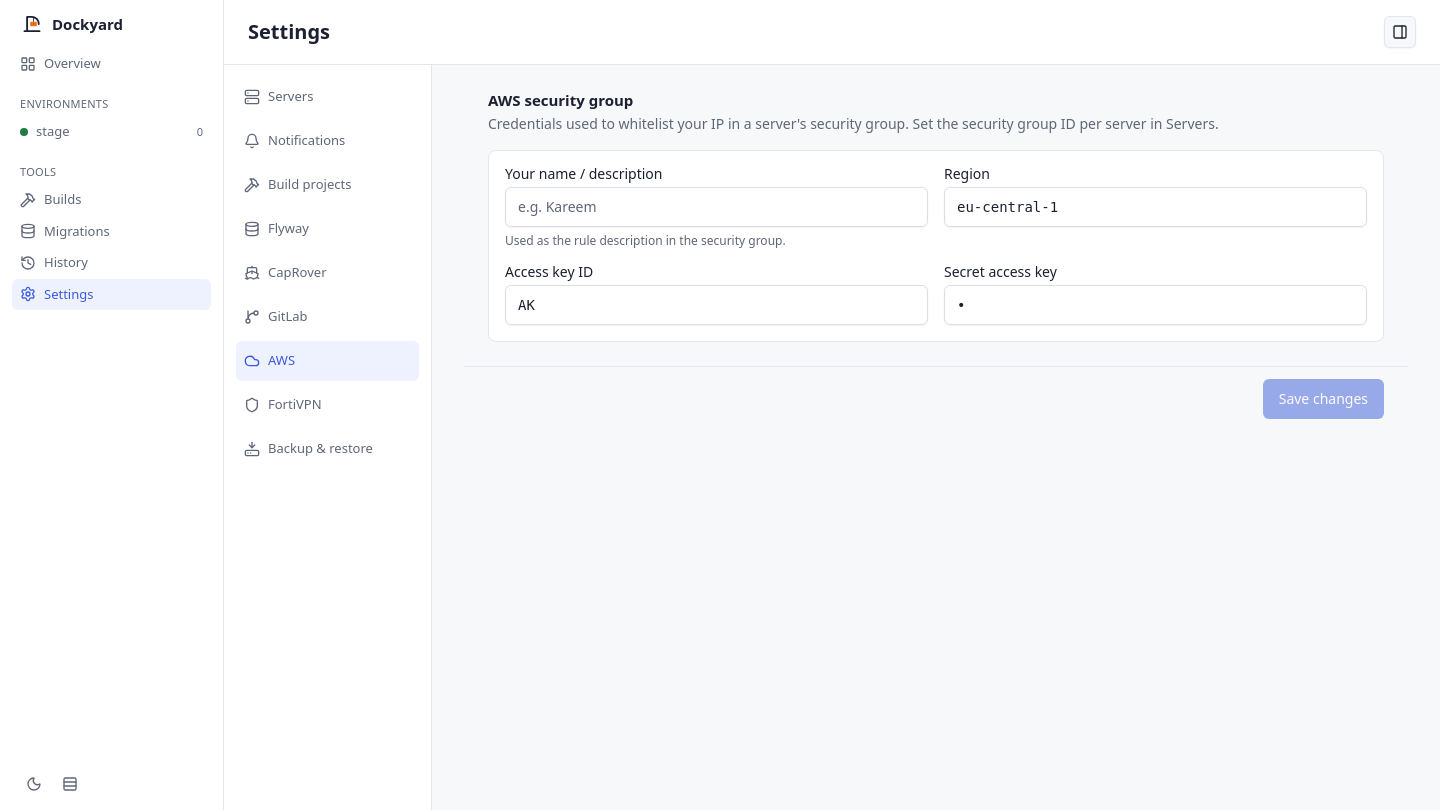
Test case: Settings › saves app config only once it changed
Expected: the button "Save changes" is disabled, [1263,378,1384,418]
Type "us-east-1" into the field labelled "Region" at (1156, 206), box [944,186,1367,226]
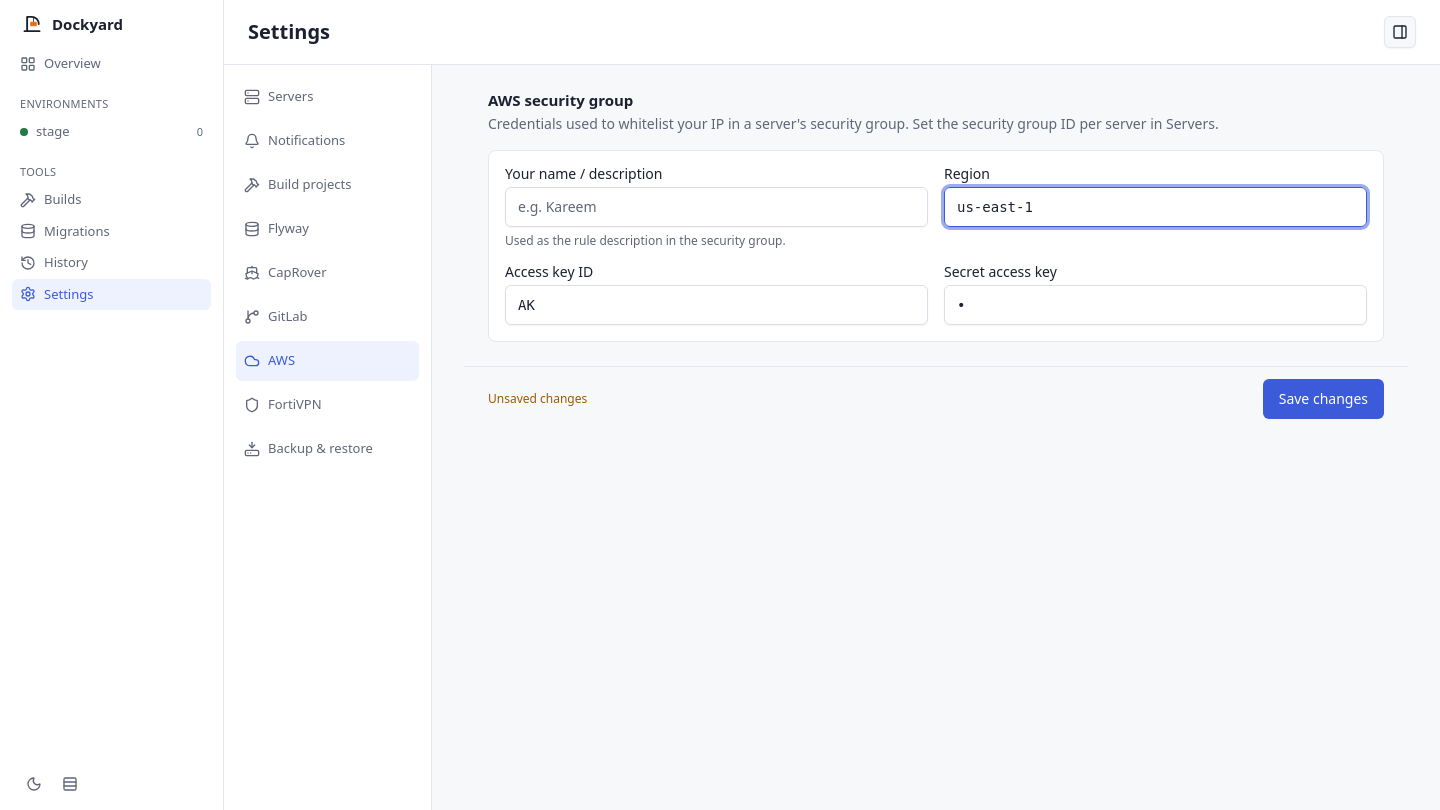
Expected: the text "Unsaved changes" is shown, [488,390,587,406]
Click the button "Save changes" at (1323, 398), box [1263,378,1384,418]
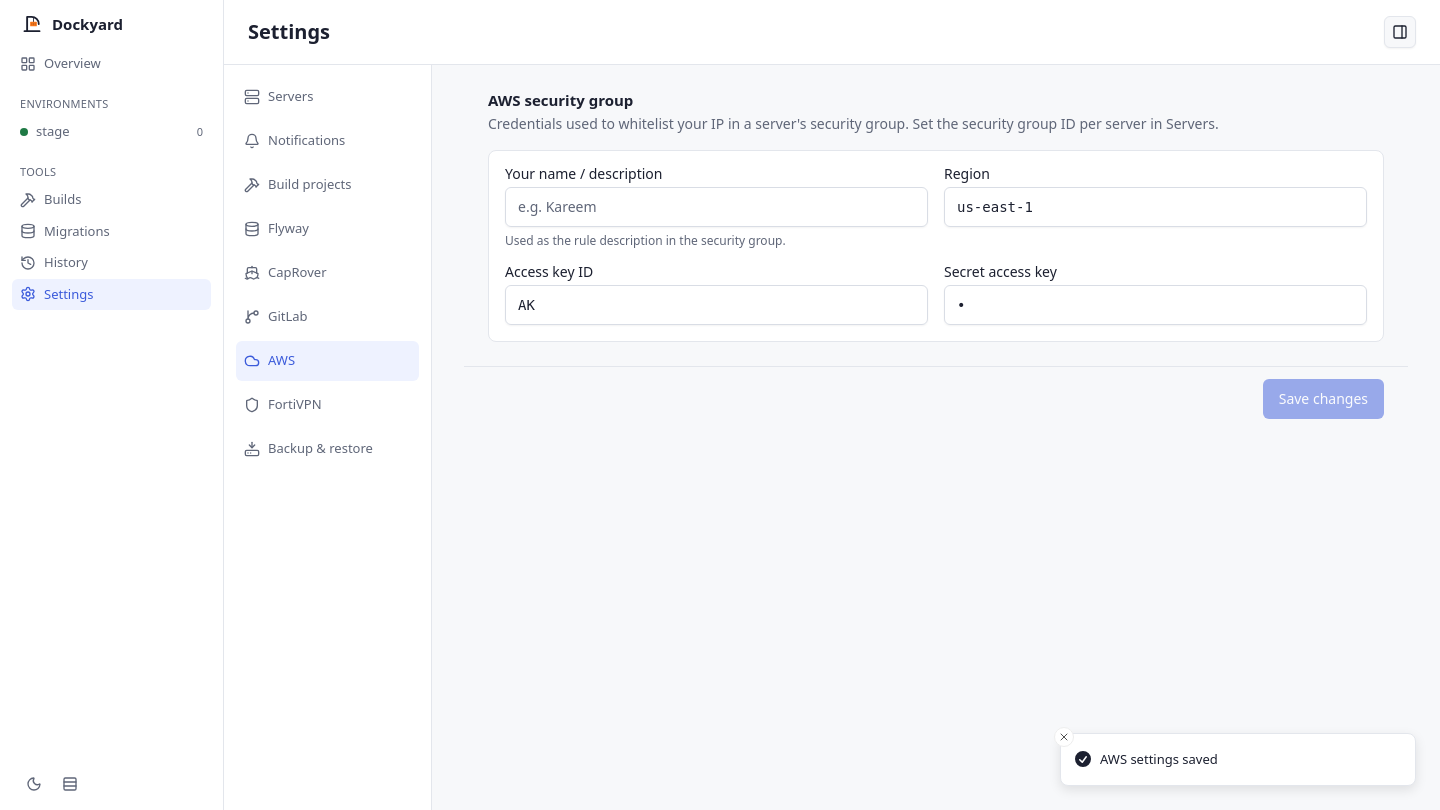
Expected: the button "Save changes" is disabled, [1263,378,1384,418]
